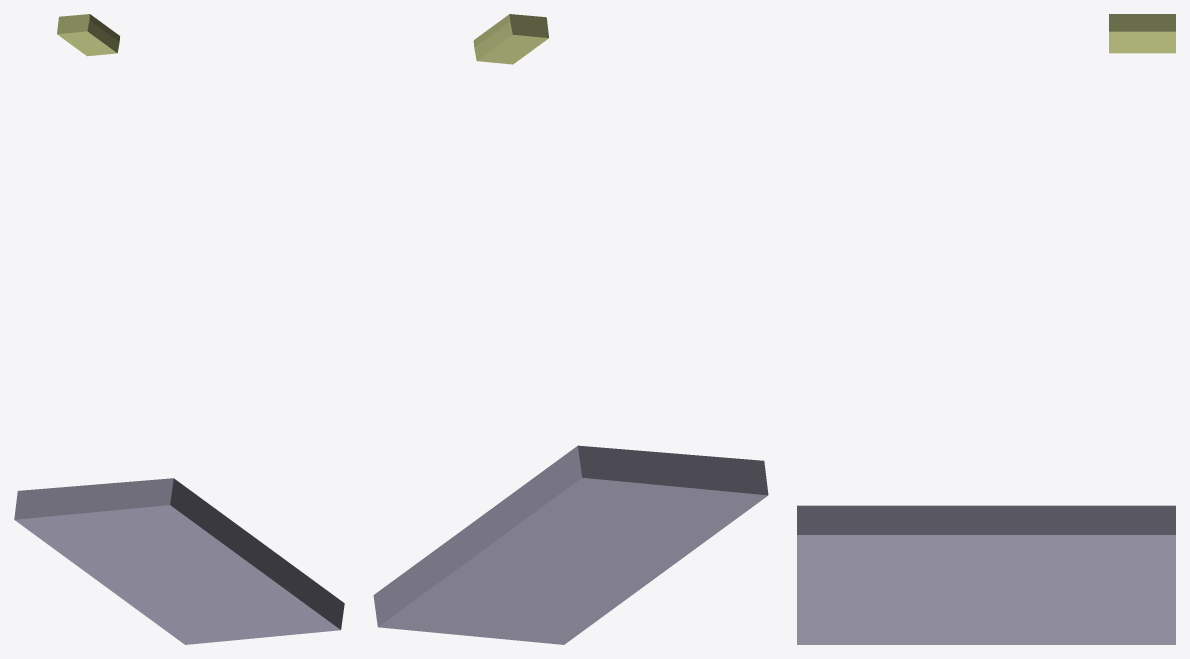
The picture shows the model from 3 angles, left to right: view 1: azimuth 30°, elevation 25°; view 2: azimuth 150°, elevation 25°; view 3: azimuth 270°, elevation 25°; orthographic projection. The views are drawn at different scales.
Visible parts, largest first — view 1: 0_0_1_2_3_0_3_3; view 2: 0_0_1_2_3_0_3_3; view 3: 0_0_1_2_3_0_3_3.
Boxes of the visible parts, left/top/right/bottom form: 0_0_1_2_3_0_3_3: left=14, top=14, right=344, bottom=644; 0_0_1_2_3_0_3_3: left=373, top=14, right=768, bottom=644; 0_0_1_2_3_0_3_3: left=797, top=14, right=1175, bottom=644.
Size of the model in its own units: 27.48 by 84.83 by 51.
